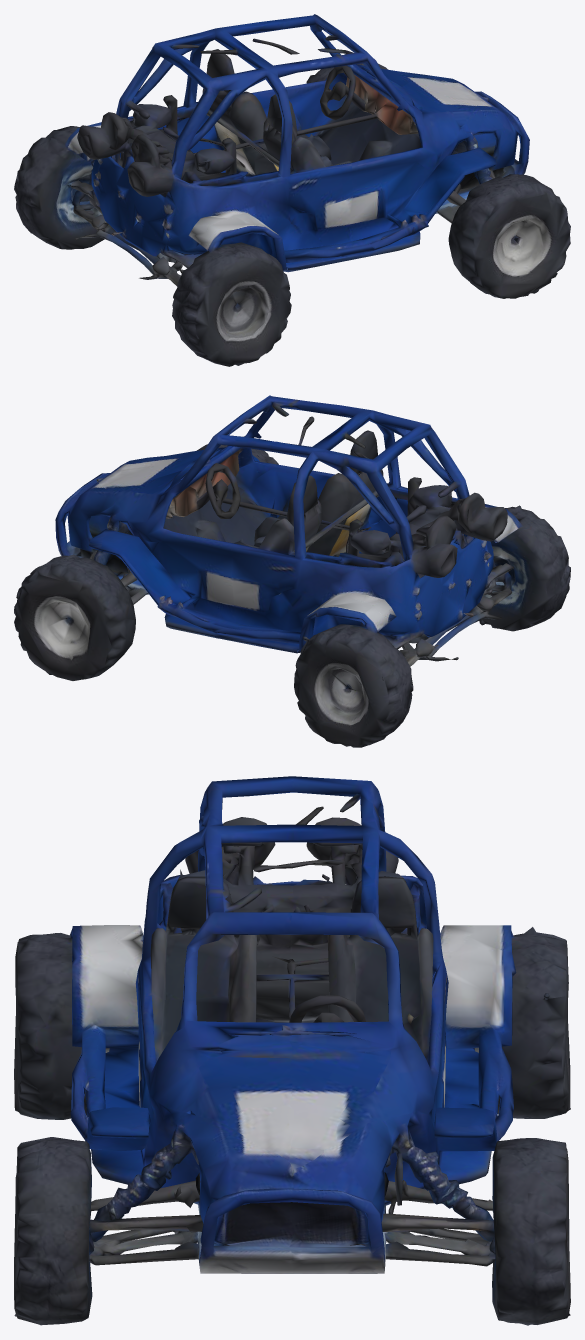
Rendered from car.glb.
3 renders of one model, top to bottom at view 1: azimuth 30°, elevation 25°; view 2: azimuth 150°, elevation 25°; view 3: azimuth 270°, elevation 25°, orthographic. The views are drawn at different scales.
Parts seen in each view (by area): view 1: tripo_node_5ca5059a-d9c4-41df-8695-76136de64c4c; view 2: tripo_node_5ca5059a-d9c4-41df-8695-76136de64c4c; view 3: tripo_node_5ca5059a-d9c4-41df-8695-76136de64c4c.
Part boxes in pixels (x1,y1,x2,y2): tripo_node_5ca5059a-d9c4-41df-8695-76136de64c4c: [14, 14, 570, 366]; tripo_node_5ca5059a-d9c4-41df-8695-76136de64c4c: [14, 395, 570, 747]; tripo_node_5ca5059a-d9c4-41df-8695-76136de64c4c: [14, 776, 570, 1325].
Size of the model in its own units: 1.78 by 1 by 1.42.
1 material, 1 textured.
